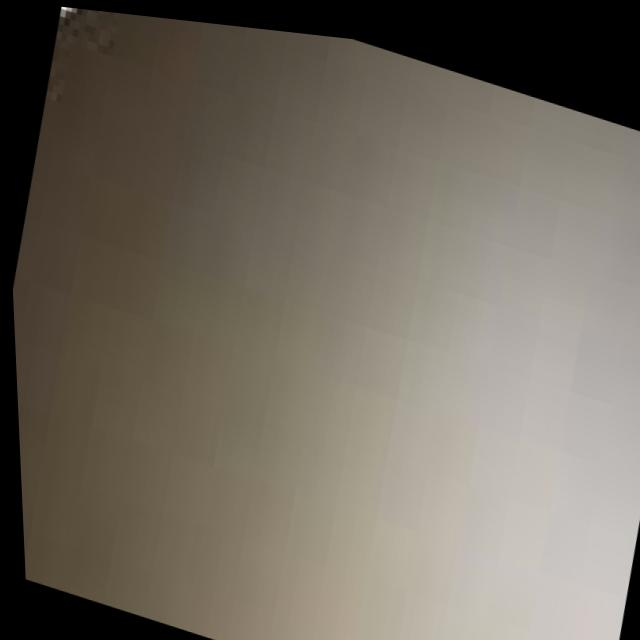metal-plates: (11, 7, 640, 640)
